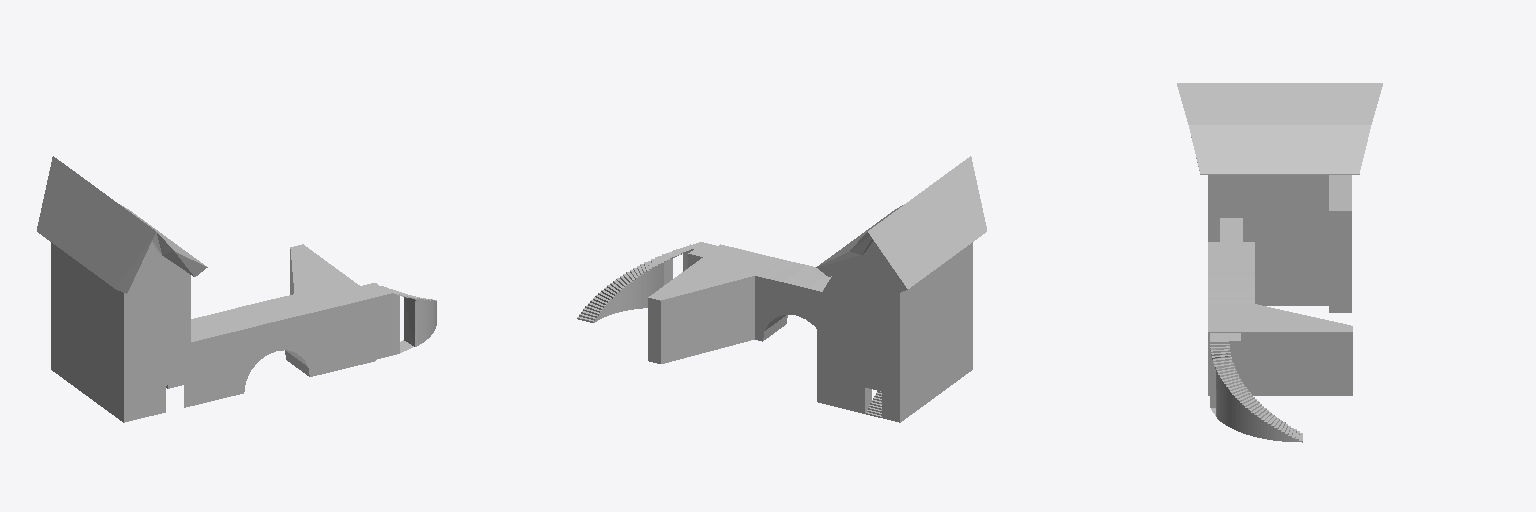
File: Archway.obj
The picture shows the model from 3 angles: view 1: azimuth 30°, elevation 25°; view 2: azimuth 150°, elevation 25°; view 3: azimuth 270°, elevation 25°; orthographic projection.
Visible parts, largest first — view 1: Archway; view 2: Archway; view 3: Archway.
Boxes of the visible parts, x1,y1,x2,y2 form: Archway: [37, 156, 436, 422]; Archway: [577, 156, 986, 422]; Archway: [1177, 83, 1382, 442].
Bounding box in the file's own units: 42.46 × 22.42 × 21.19.